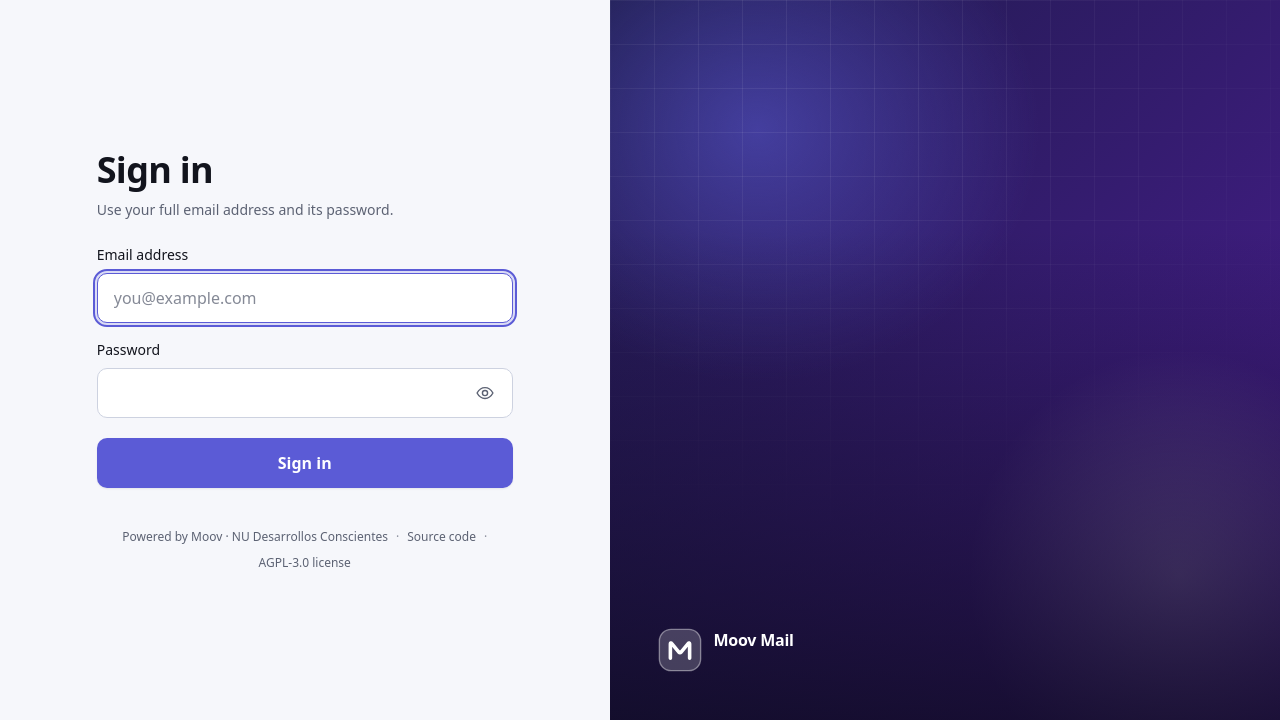
client-side validation › catches a bare username before it becomes a wrong-password error
Type "moov-test" into the field labelled "Email address" at (305, 298), box [97,273,513,323]
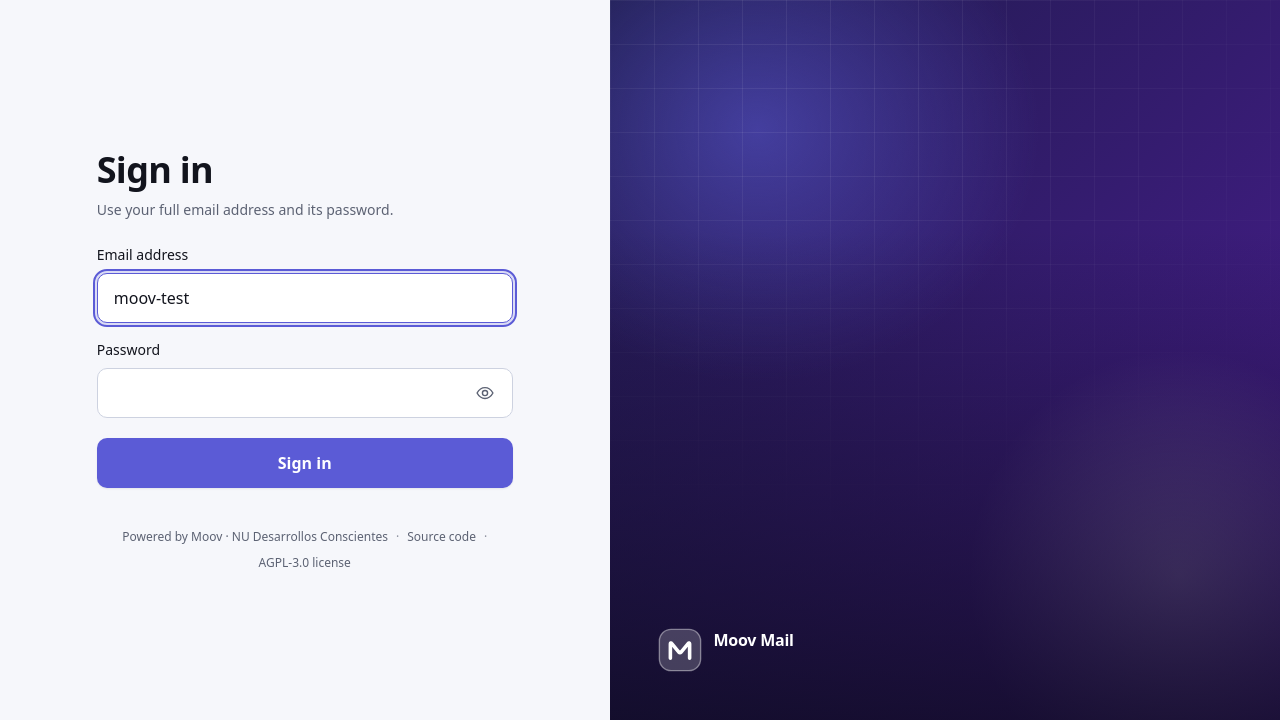
Type "secret" into the password field labelled "Password" at (305, 393), box [97,368,513,418]
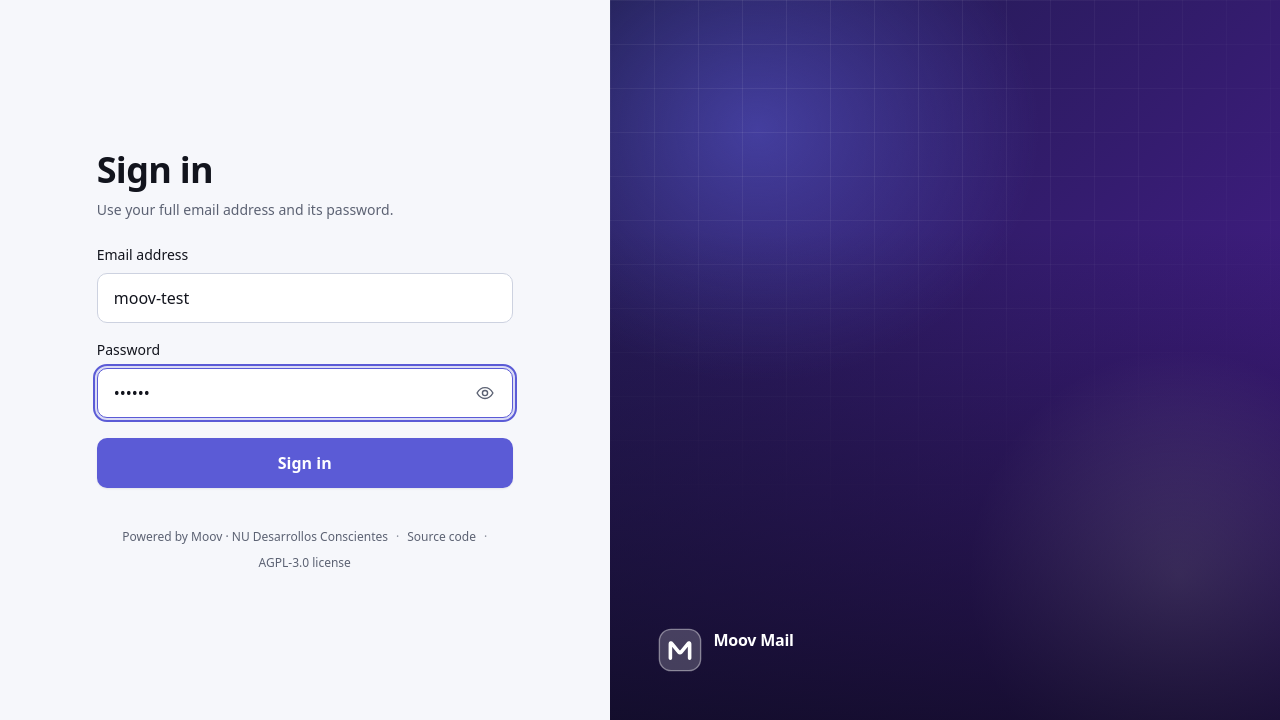
Click the button "Sign in" at (305, 463), box [97,438,513,488]
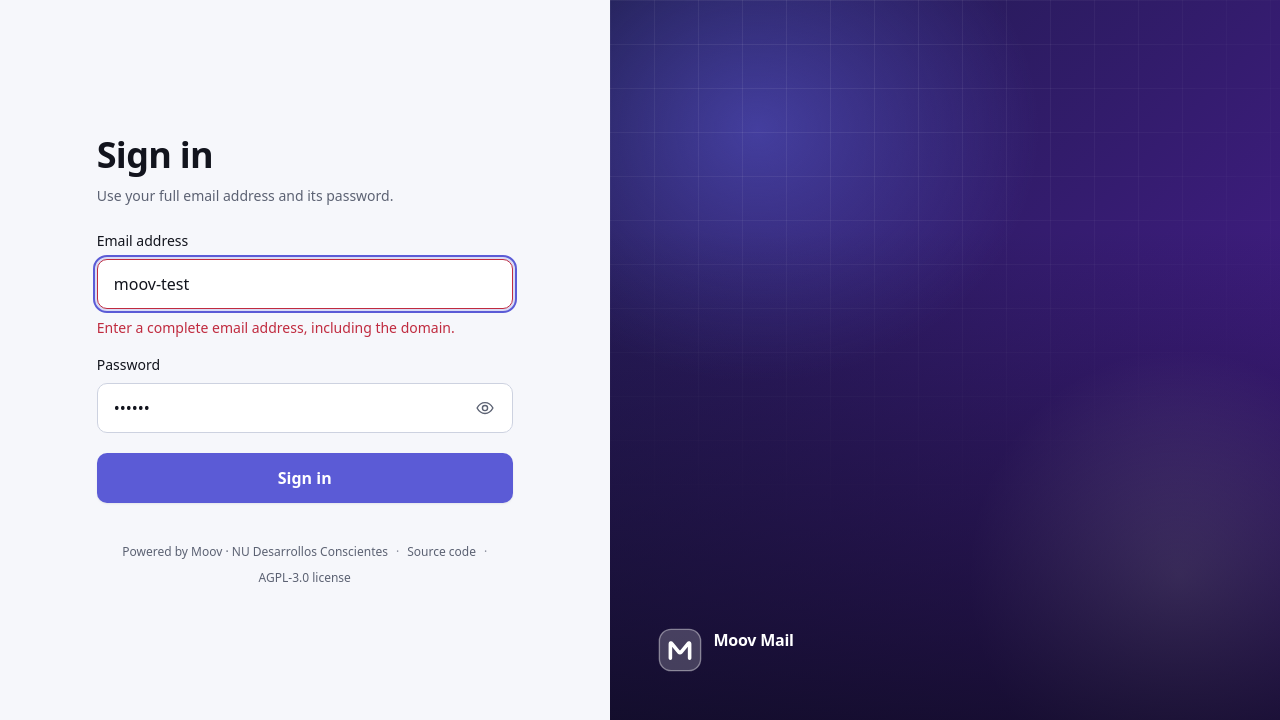
Expected: the text "Enter a complete email address, including the domain." is shown, [97,317,513,338]
